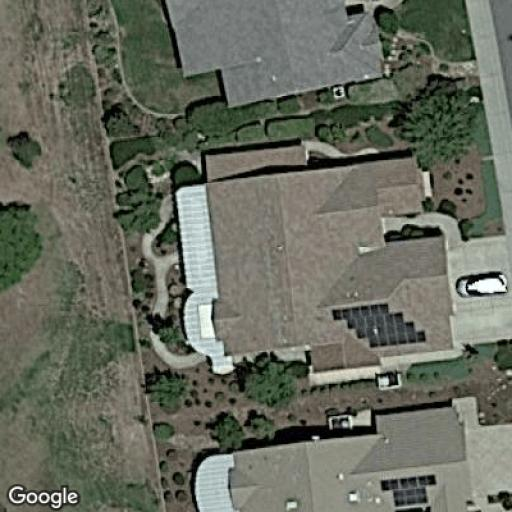solar-panel: (331, 300, 428, 349), (377, 472, 440, 508)
